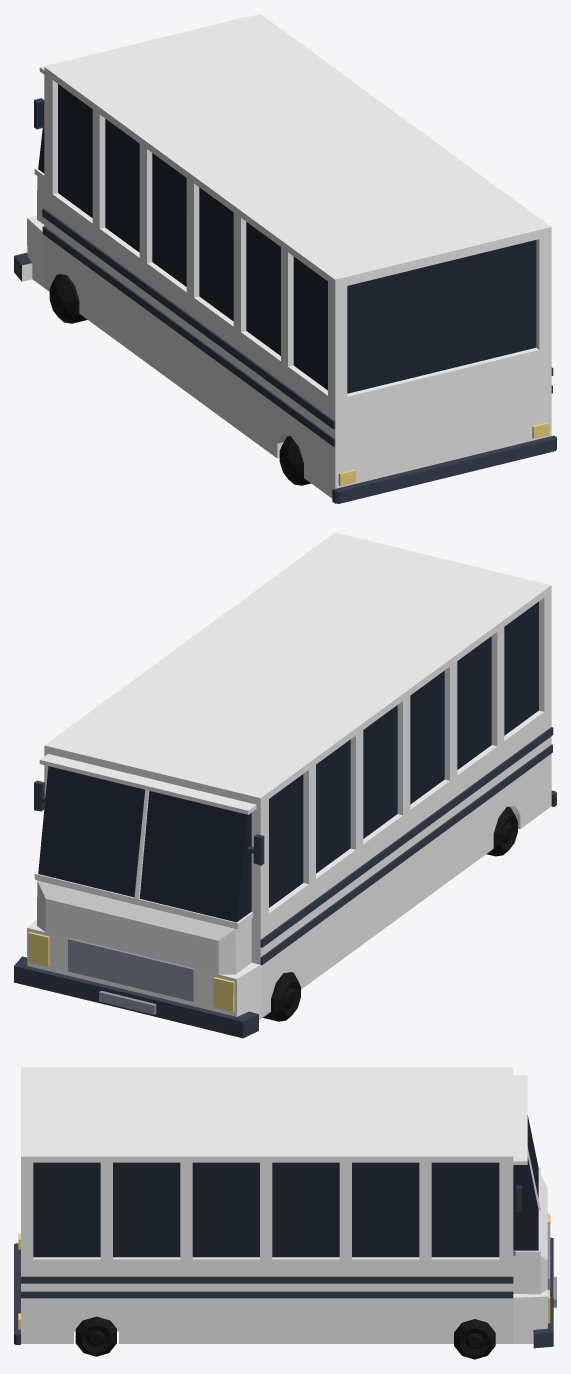
The model's file is transport.glb.
3 renders of one model, top to bottom at view 1: azimuth 30°, elevation 25°; view 2: azimuth 150°, elevation 25°; view 3: azimuth 270°, elevation 25°, orthographic. The views are drawn at different scales.
Parts seen in each view (by area): view 1: Bus, FrontWheels, BackWheels; view 2: Bus, FrontWheels, BackWheels; view 3: Bus, FrontWheels, BackWheels.
Boxes of the visible parts, bbox=[...] form: Bus: bbox=[14, 14, 556, 503]; FrontWheels: bbox=[49, 274, 87, 323]; BackWheels: bbox=[279, 436, 310, 485]; Bus: bbox=[14, 532, 556, 1038]; FrontWheels: bbox=[263, 972, 300, 1021]; BackWheels: bbox=[486, 806, 517, 856]; Bus: bbox=[14, 1067, 556, 1348]; FrontWheels: bbox=[454, 1319, 495, 1359]; BackWheels: bbox=[75, 1316, 116, 1356].
Bounding box in the file's own units: 1.74 × 1.68 × 4.09.
